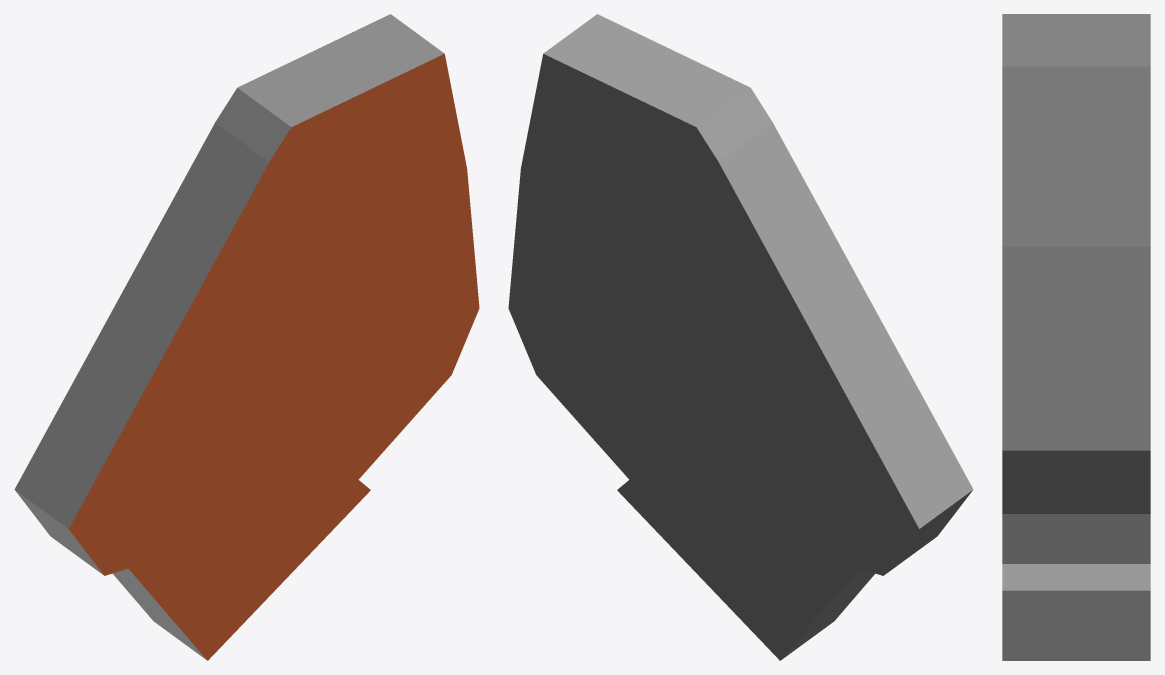
Rendered from construction_5784_assumed_A_Casa_h6m.obj.
The picture shows the model from 3 angles, left to right: view 1: azimuth 30°, elevation 25°; view 2: azimuth 150°, elevation 25°; view 3: azimuth 270°, elevation 25°; orthographic projection. The views are drawn at different scales.
Parts seen in each view (by area): view 1: construction_5784_assumed_A_Casa; view 2: construction_5784_assumed_A_Casa; view 3: construction_5784_assumed_A_Casa.
Boxes of the visible parts, x1,y1,x2,y2 form: construction_5784_assumed_A_Casa: (14,14,479,660); construction_5784_assumed_A_Casa: (508,14,973,660); construction_5784_assumed_A_Casa: (1002,14,1150,660).
Size of the model in its own units: 26.28 by 33.58 by 6.
